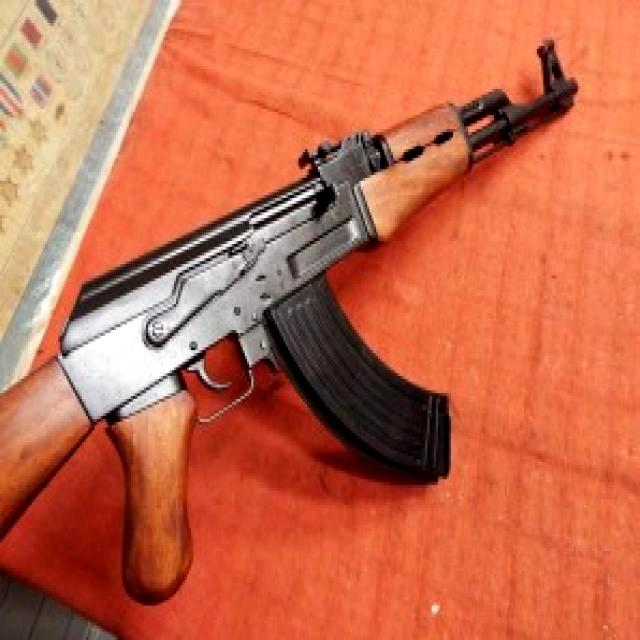ak: (0, 33, 602, 600)
